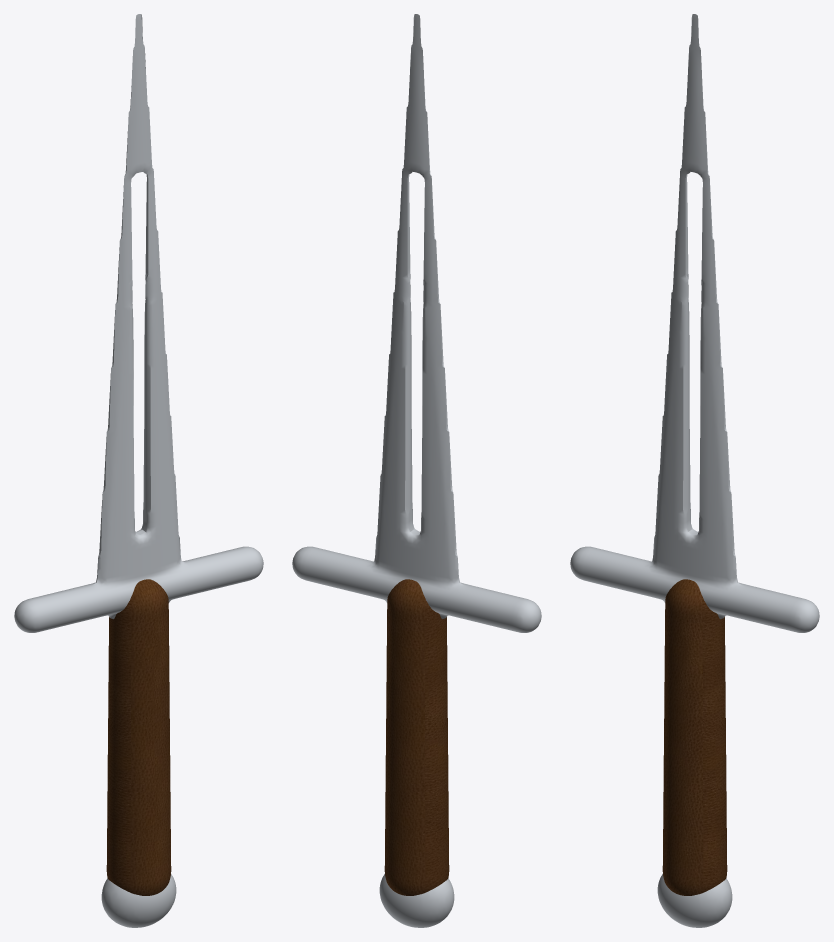
The model's file is w-dagger.glb.
3 views of the same model, side by side, from view 1: azimuth 30°, elevation 25°; view 2: azimuth 150°, elevation 25°; view 3: azimuth 330°, elevation 25° (orthographic).
Parts seen in each view (by area): view 1: w-dagger; view 2: w-dagger; view 3: w-dagger.
Part boxes in pixels (bbox=[...]): w-dagger: bbox=[14, 14, 263, 927]; w-dagger: bbox=[292, 14, 541, 927]; w-dagger: bbox=[570, 14, 819, 927].
Bounding box in the file's own units: 0.1137 × 0.4046 × 0.0259.
Materials: 2 (1 with a texture image).
